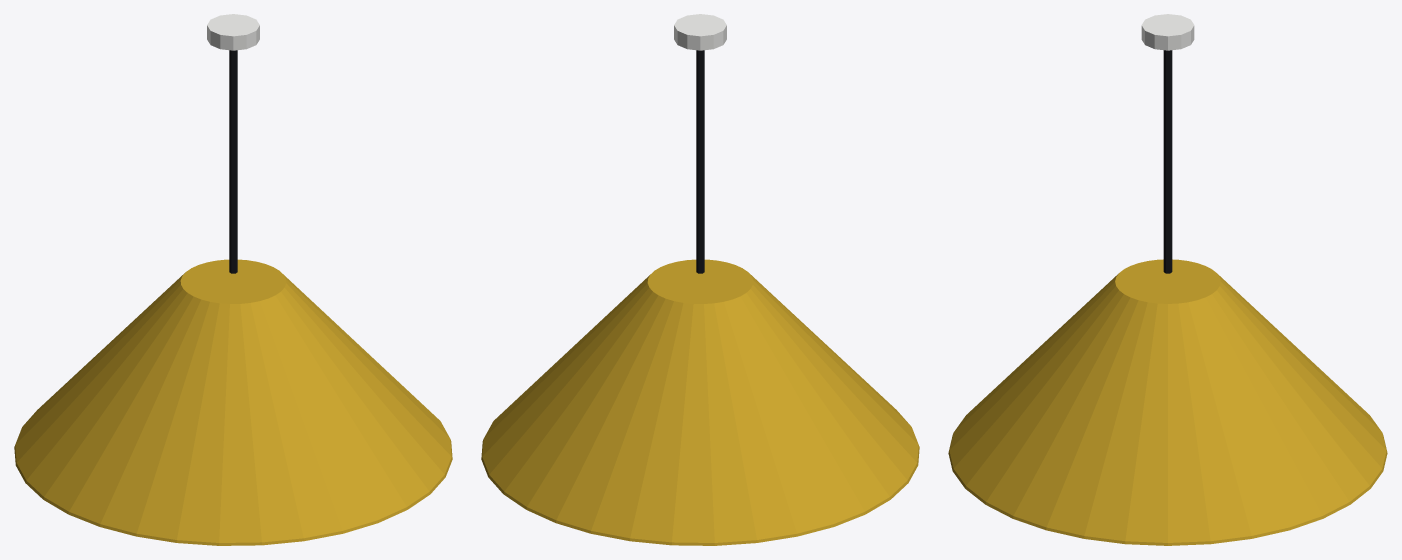
Rendered from pendant-lamp.glb.
3 renders of one model, left to right at view 1: azimuth 30°, elevation 25°; view 2: azimuth 150°, elevation 25°; view 3: azimuth 270°, elevation 25°, orthographic.
Visible parts, largest first — view 1: cord; view 2: cord; view 3: cord.
Boxes of the visible parts, <box> form: cord: <box>14,14,452,545</box>; cord: <box>481,14,919,545</box>; cord: <box>948,14,1387,545</box>.
Size of the model in its own units: 0.8302 by 0.95 by 0.8302.
